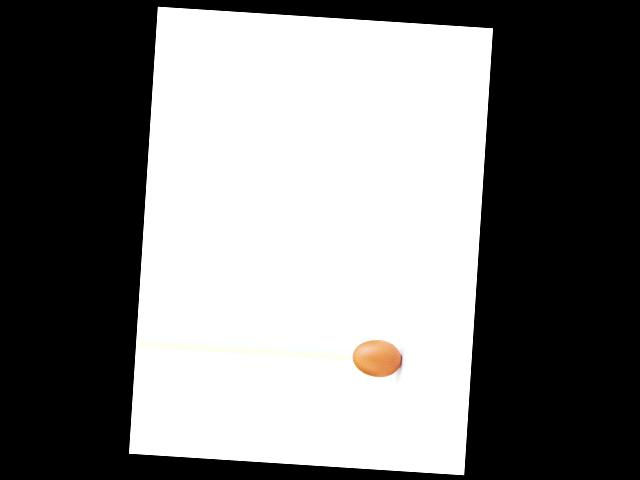egg: (352, 339, 402, 378)
